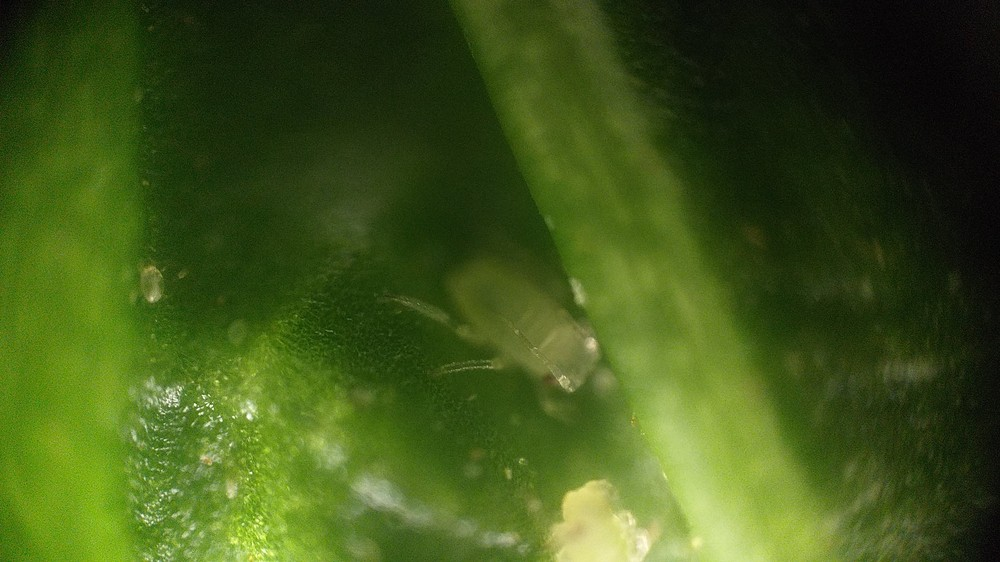Pulgon: (385, 220, 630, 433)
